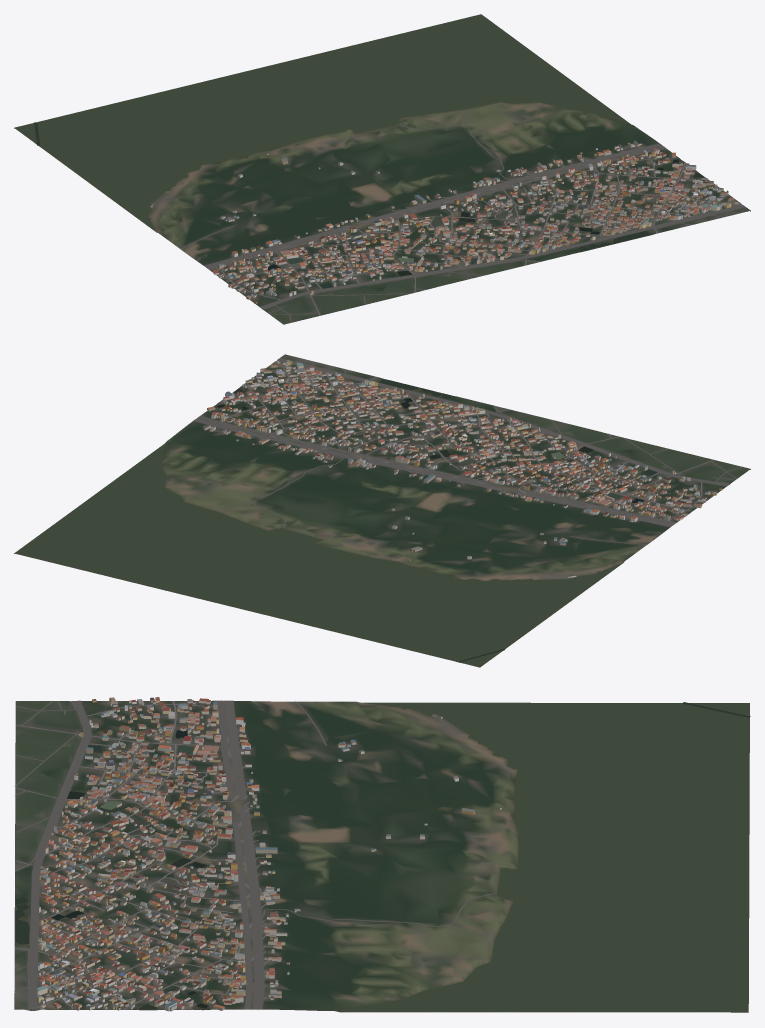
The picture shows the model from 3 angles, top to bottom: view 1: azimuth 30°, elevation 25°; view 2: azimuth 150°, elevation 25°; view 3: azimuth 270°, elevation 25°; orthographic projection. The views are drawn at different scales.
Parts seen in each view (by area): view 1: ground, water, buildings, roads; view 2: ground, water, buildings, roads; view 3: ground, water, buildings, roads.
Boxes of the visible parts, x1,y1,x2,y2 form: ground: [14, 102, 750, 324]; water: [15, 14, 723, 309]; buildings: [150, 140, 738, 303]; roads: [181, 124, 746, 322]; ground: [14, 354, 750, 667]; water: [15, 379, 729, 666]; buildings: [203, 360, 722, 577]; roads: [193, 357, 742, 544]; ground: [14, 700, 749, 1012]; water: [15, 702, 750, 1011]; buildings: [37, 697, 501, 1011]; roads: [14, 700, 496, 1009].
Bounding box in the file's own units: 1412 × 21.33 × 1407.
